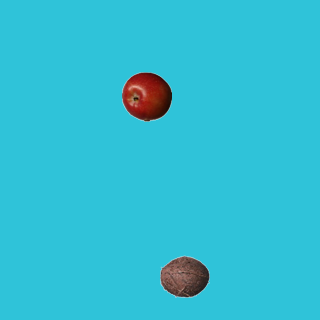Apple Braeburn: (121, 71, 171, 121)
Cocos: (159, 251, 209, 301)
